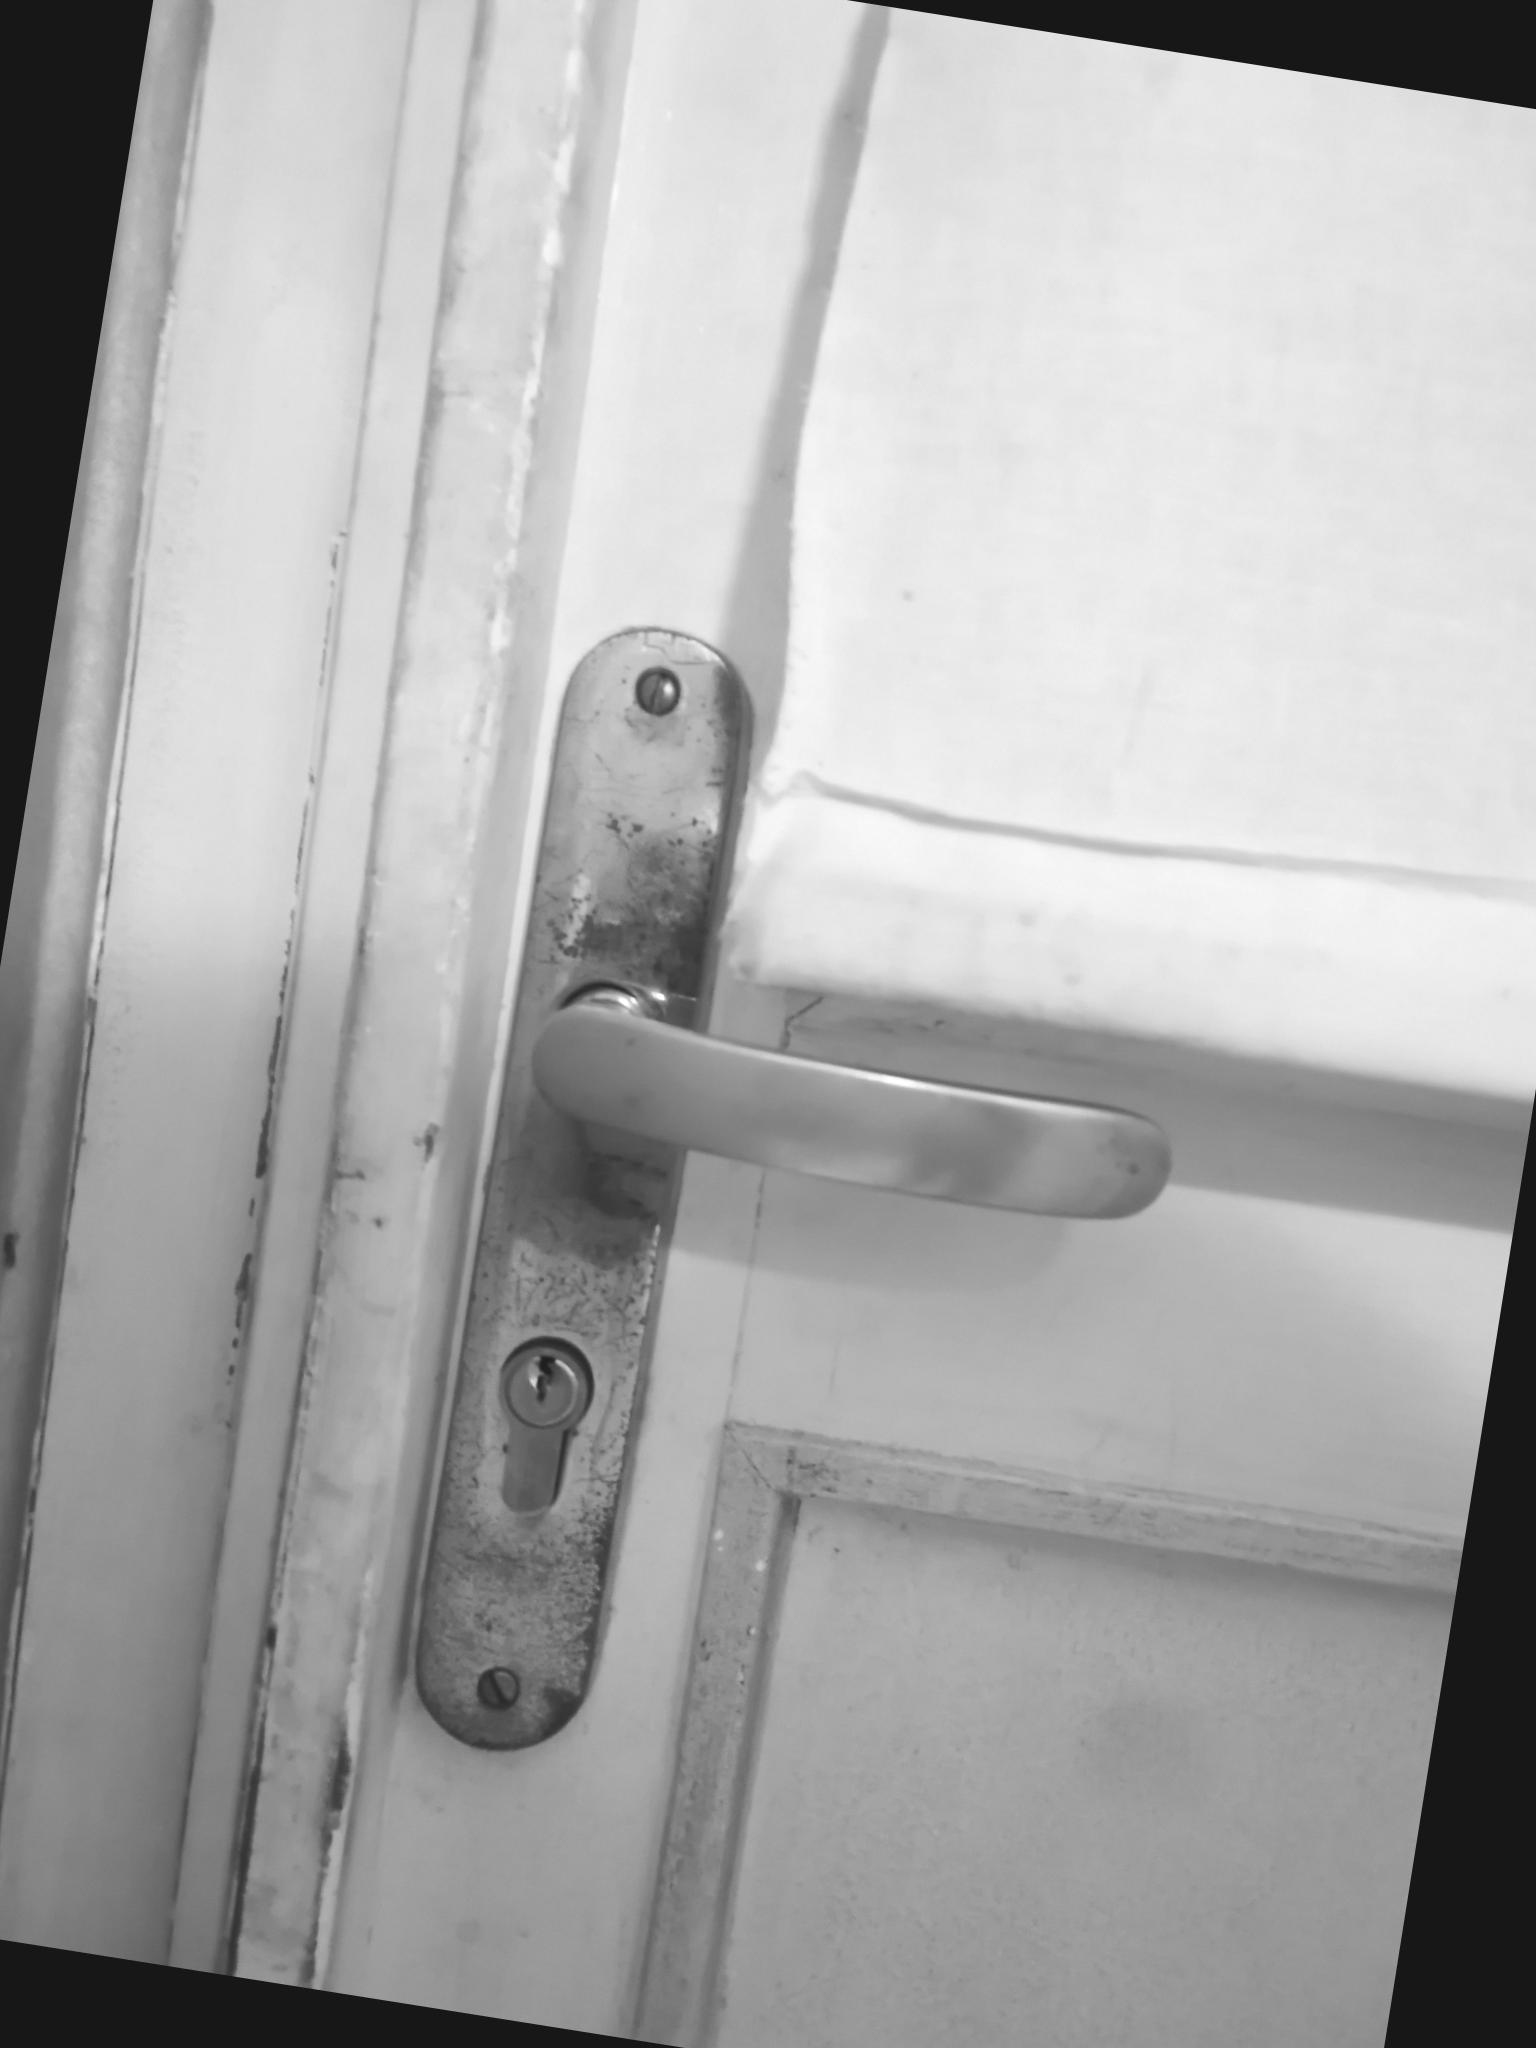slotted: (629, 663, 684, 718), (471, 1663, 523, 1714)
